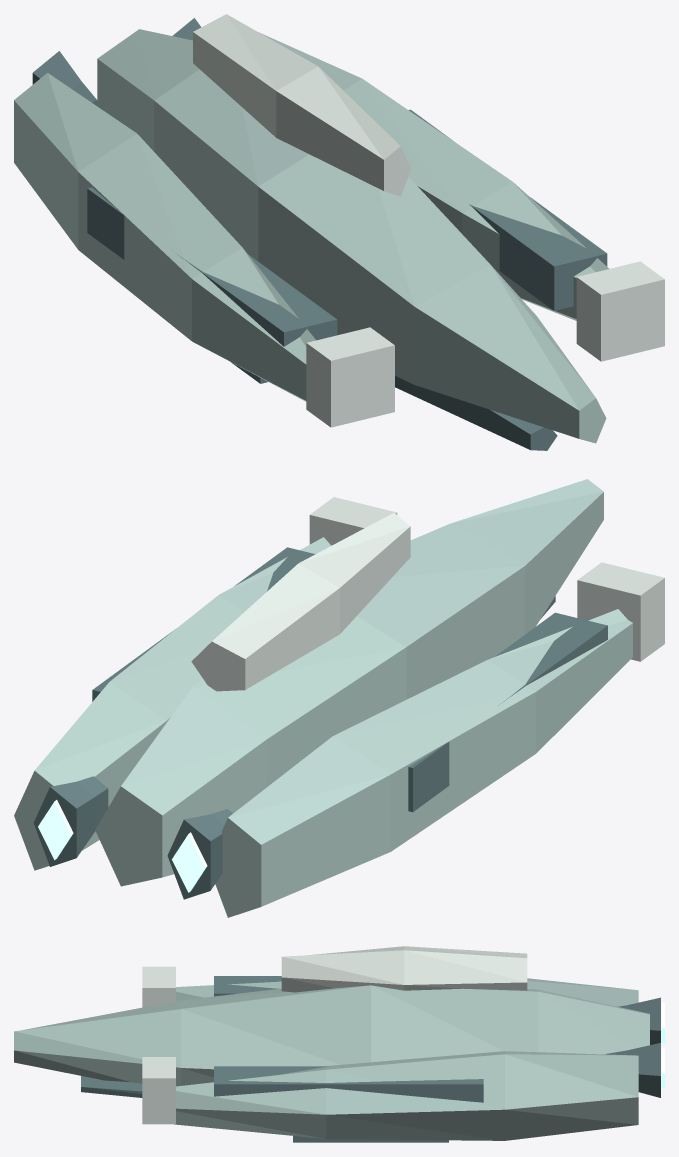
The picture shows the model from 3 angles, top to bottom: view 1: azimuth 30°, elevation 25°; view 2: azimuth 150°, elevation 25°; view 3: azimuth 270°, elevation 25°; orthographic projection. The views are drawn at different scales.
Size of the model in its own units: 6.61 by 4.41 by 15.45.
